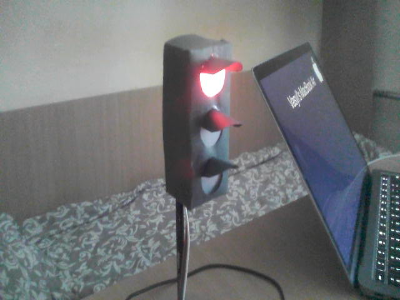trafficlight_red: (189, 42, 240, 210)
